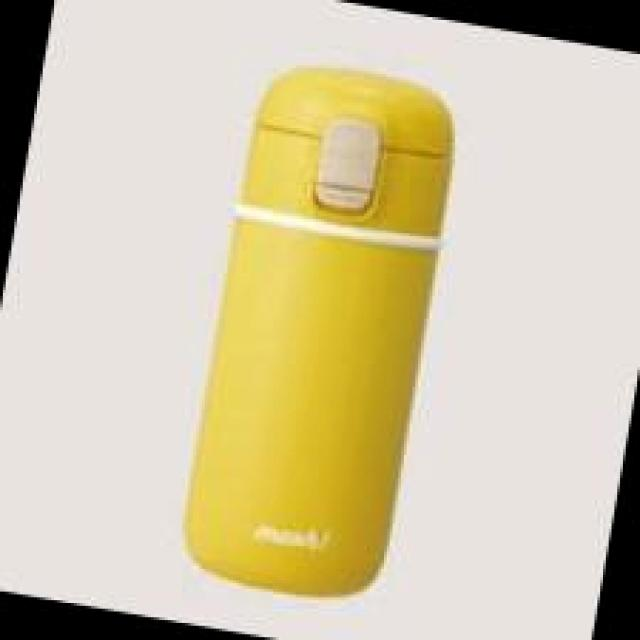bottle: (174, 52, 464, 604)
